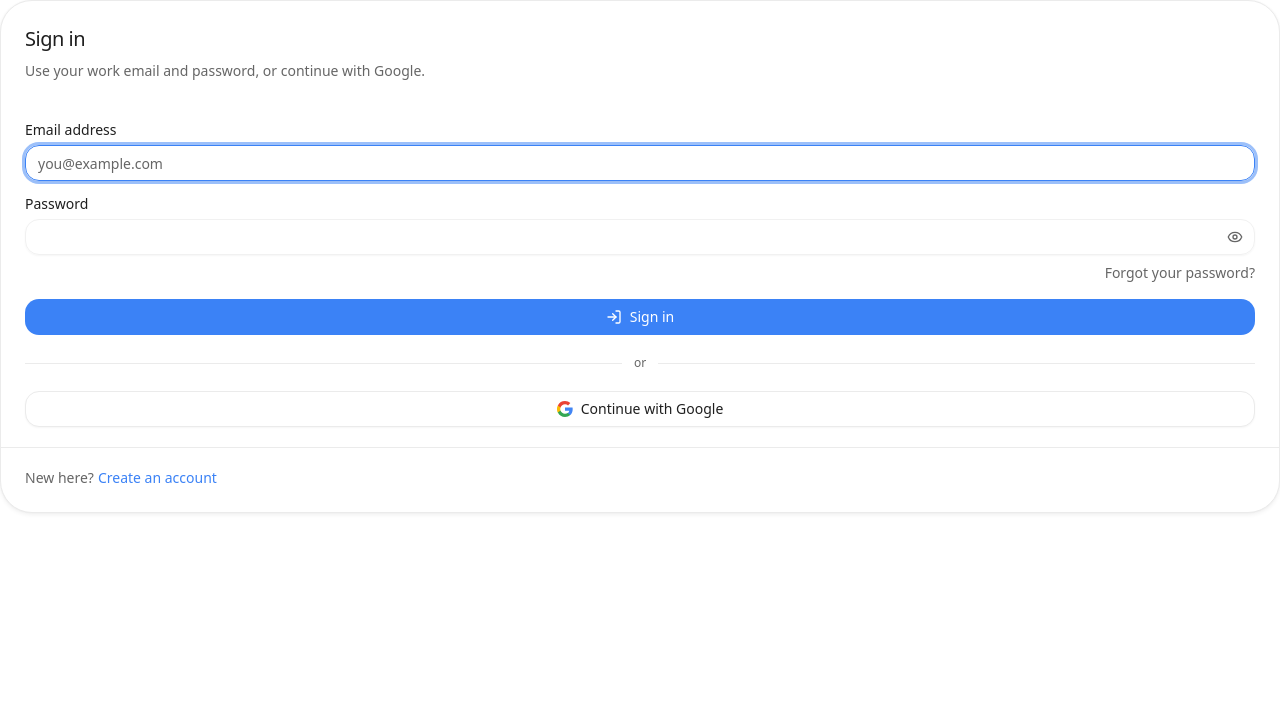
Test: failures › explains a deactivated account in its own words
Step 1. Type "sara@example.com" into the field labelled "Email address" → coordinates (640, 163), box top-left (25, 145), bottom-right (1255, 181)
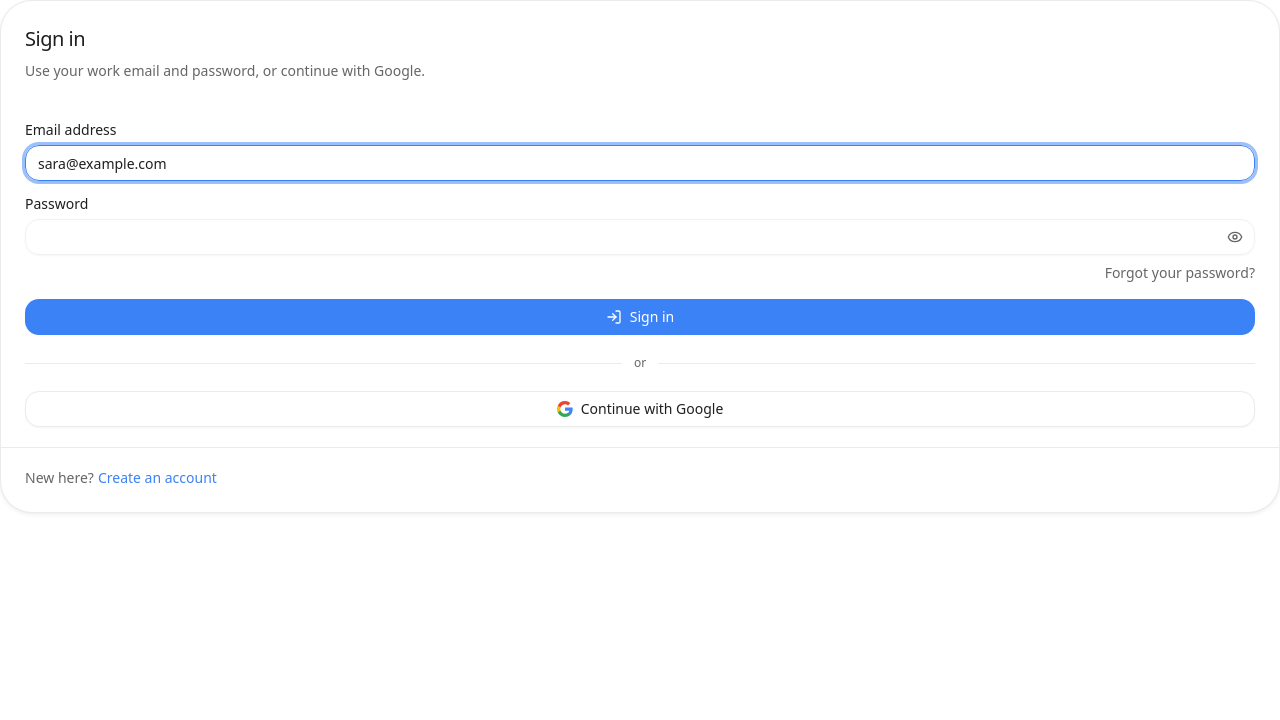
Step 2. Type "a-good-password" into the password field labelled "Password" → coordinates (640, 237), box top-left (25, 219), bottom-right (1255, 255)
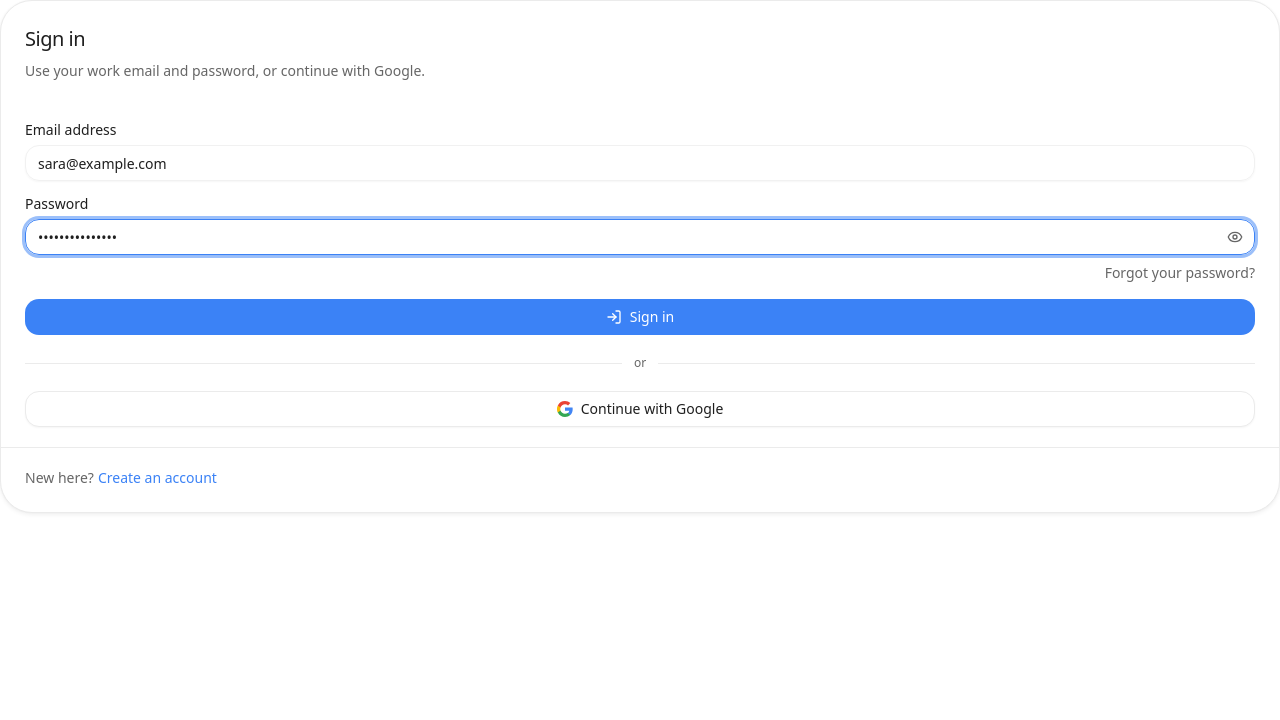
Step 3. Click the button "Sign in" → coordinates (640, 317), box top-left (25, 299), bottom-right (1255, 335)
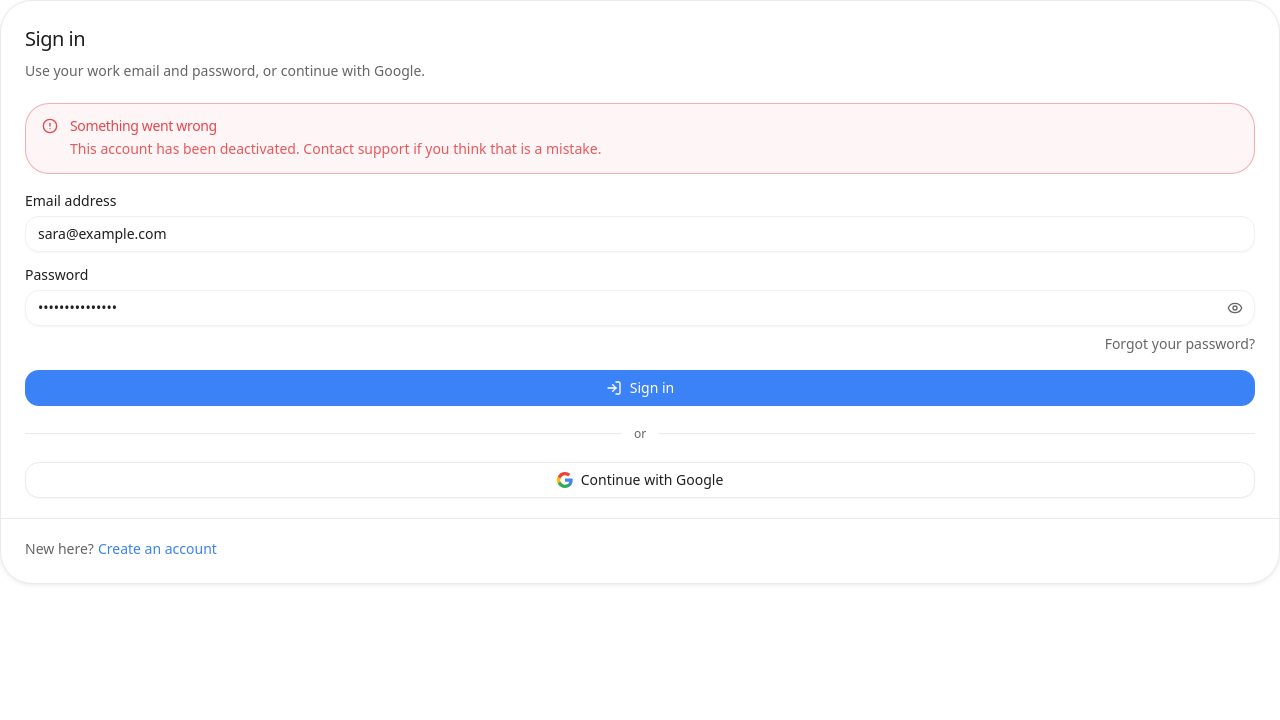
Check: the text "This account has been deactivated" is shown, box top-left (70, 139), bottom-right (601, 158)
